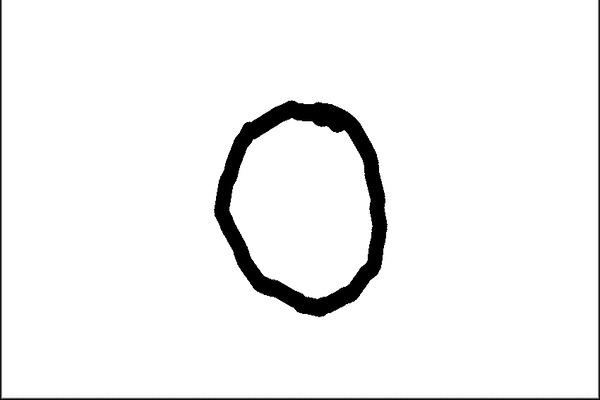O: (197, 87, 397, 321)
